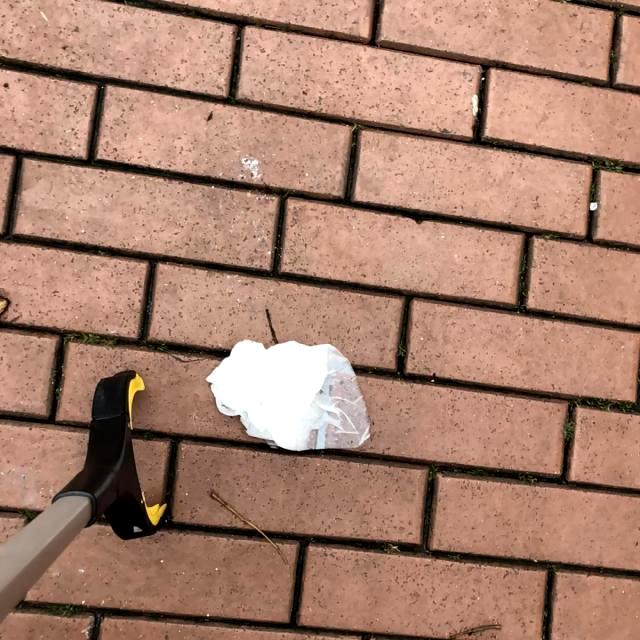Paper: (204, 338, 374, 452)
